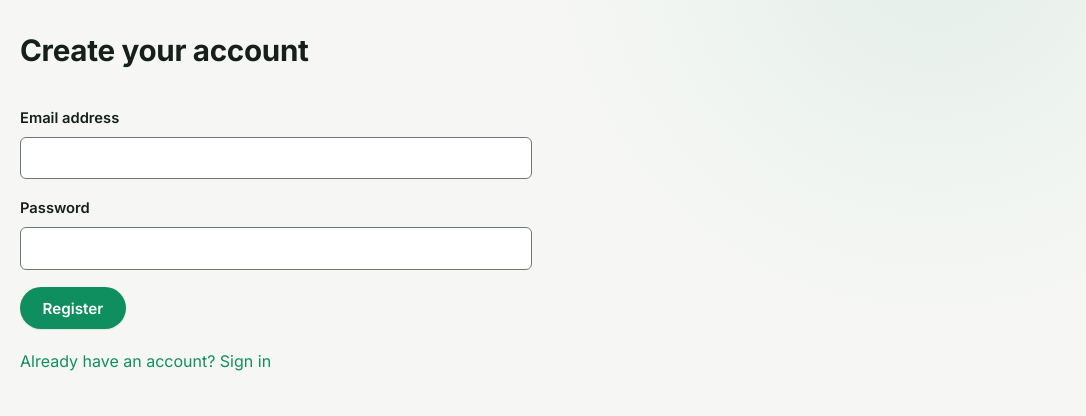
RegisterForm › blocks submission client-side on an empty password
Type "new@example.com" into the field labelled "Email address". click: (276, 158)
box: 20,136 -> 532,179
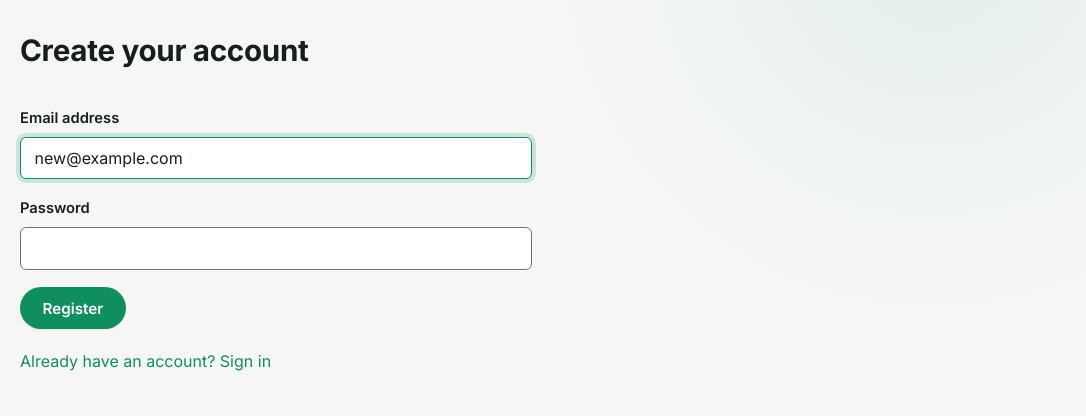
Click the button "Register". click: (73, 308)
box: 20,287 -> 126,329
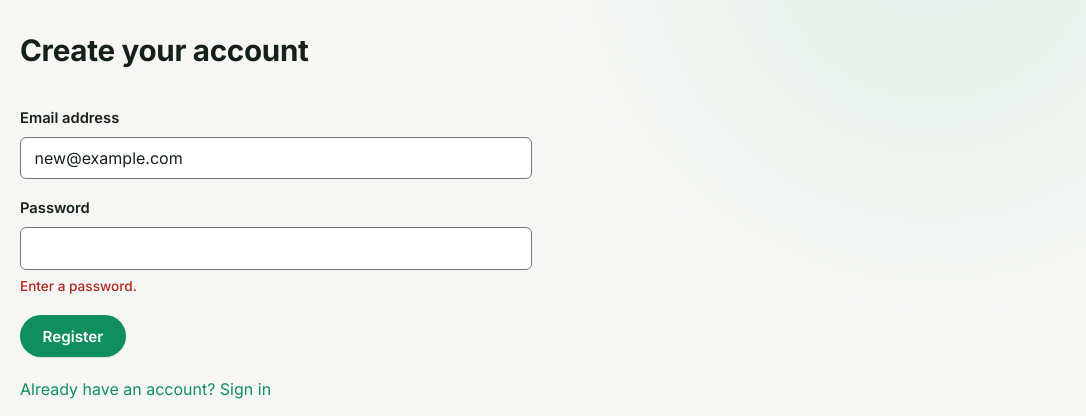
Check: the text "Enter a password." is shown, box 20,278 -> 137,294
